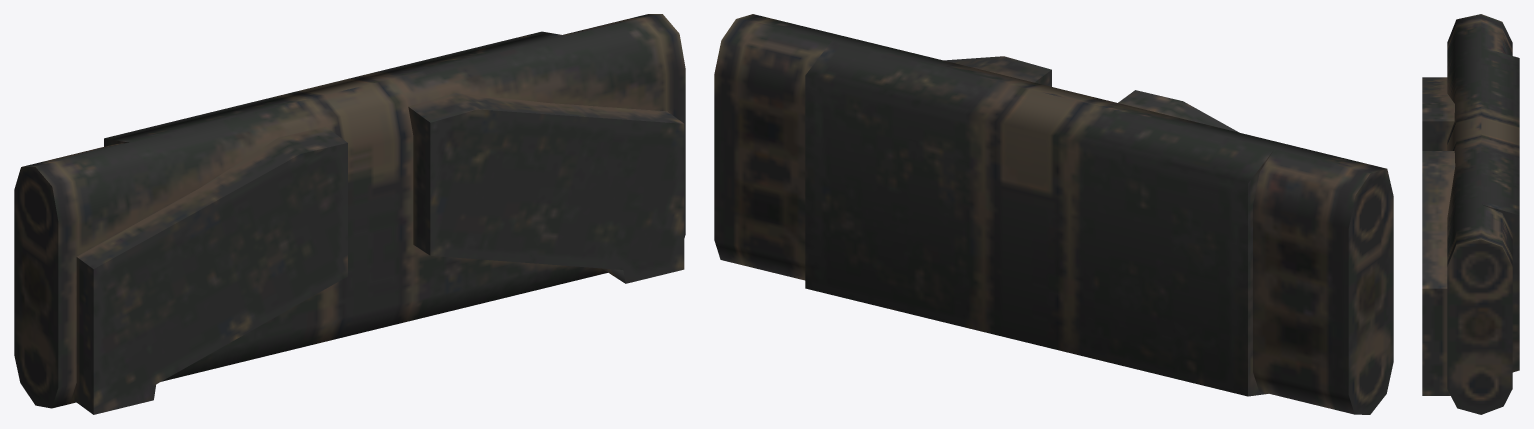
3 views of the same model, side by side, from view 1: azimuth 30°, elevation 25°; view 2: azimuth 150°, elevation 25°; view 3: azimuth 270°, elevation 25° (orthographic). The views are drawn at different scales.
Visible parts, largest first — view 1: set_0_group_0; view 2: set_0_group_0; view 3: set_0_group_0.
Part boxes in pixels (left/top/right/bottom): set_0_group_0: left=14, top=14, right=685, bottom=414; set_0_group_0: left=714, top=14, right=1393, bottom=414; set_0_group_0: left=1422, top=14, right=1519, bottom=414.
Size of the model in its own units: 0.5281 by 0.194 by 0.0967.
Materials: 1 (1 with a texture image).
